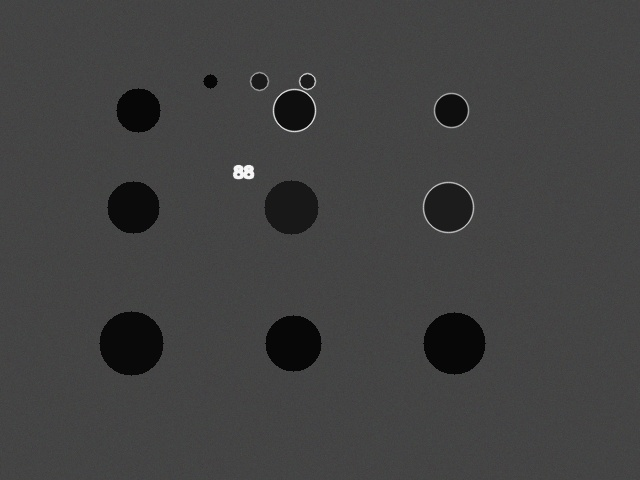hole: (99, 311, 163, 375), (423, 312, 485, 374), (265, 315, 321, 371), (264, 180, 318, 234), (107, 181, 159, 233), (423, 182, 473, 232), (116, 88, 160, 132), (273, 89, 315, 131), (434, 93, 468, 127), (250, 72, 268, 90), (299, 73, 315, 89), (203, 74, 217, 88)
